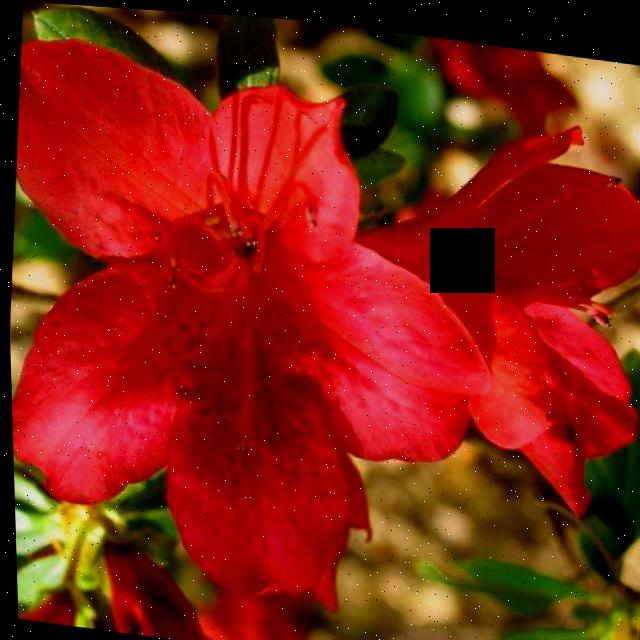azalea: (0, 20, 515, 638)
